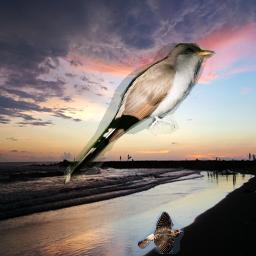Cuckoo: (64, 43, 216, 183)
Swallow: (137, 211, 184, 254)
